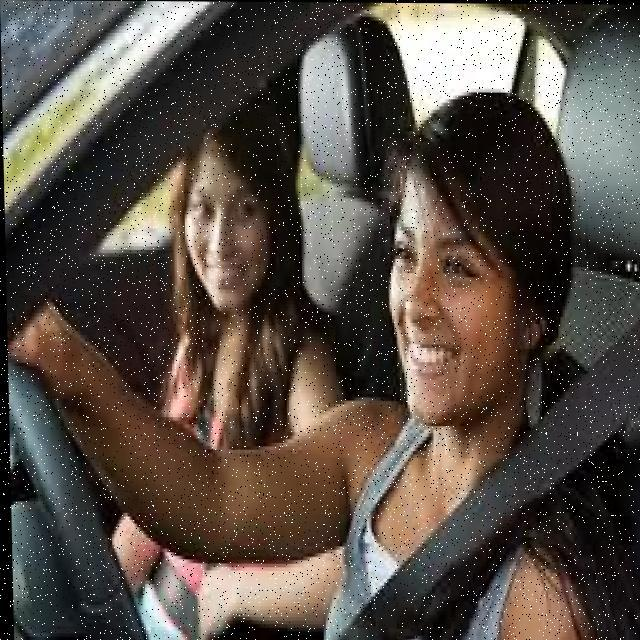seatbelt: (301, 311, 640, 640)
